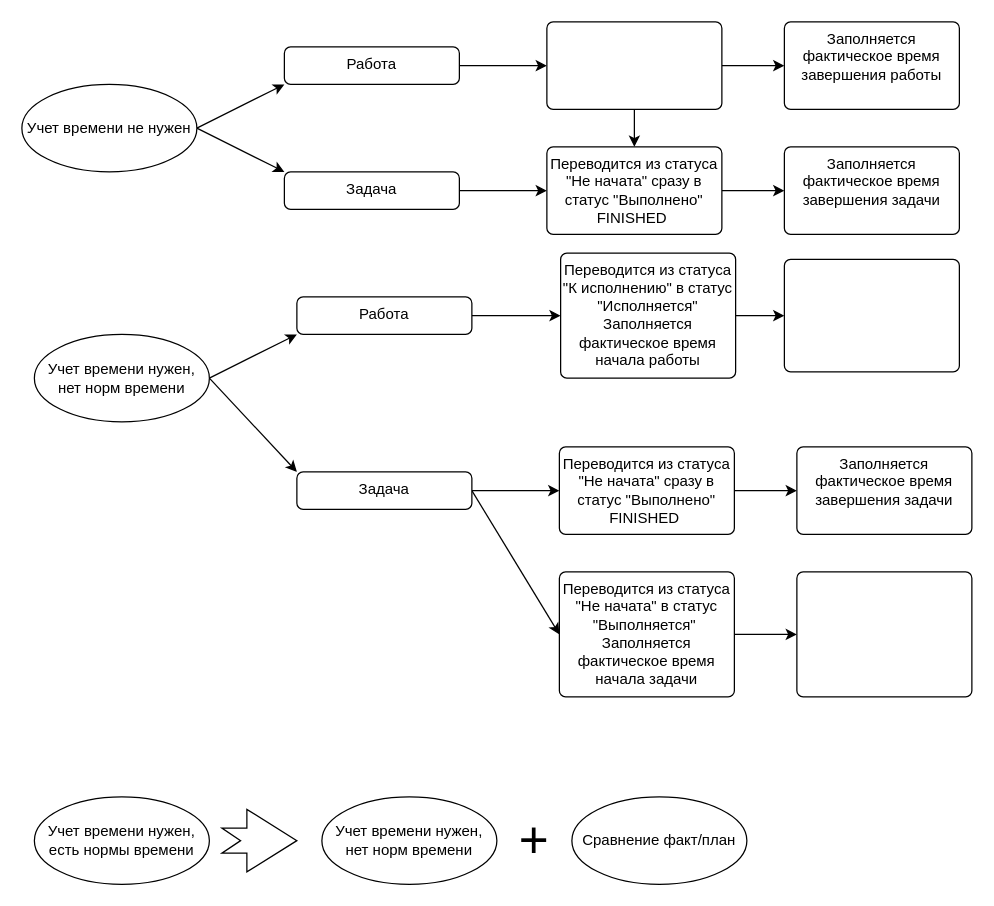
The diagram is 994 pixels wide and 906 high, and some of its shapes have lost their labels. Here are the shapes that lost their labels. From the top down, the box of each, then its label:
(546, 21, 722, 109): Переводится из статуса "К исполнению" сразу в статус "Выполнено" FINISHED
(783, 258, 959, 372): Переводится в статус "Выполнено" Заполняется фактическое время завершения работы
(796, 571, 972, 697): Переводится в статус "Выполнена" Заполняется фактическое время завершения задачи
